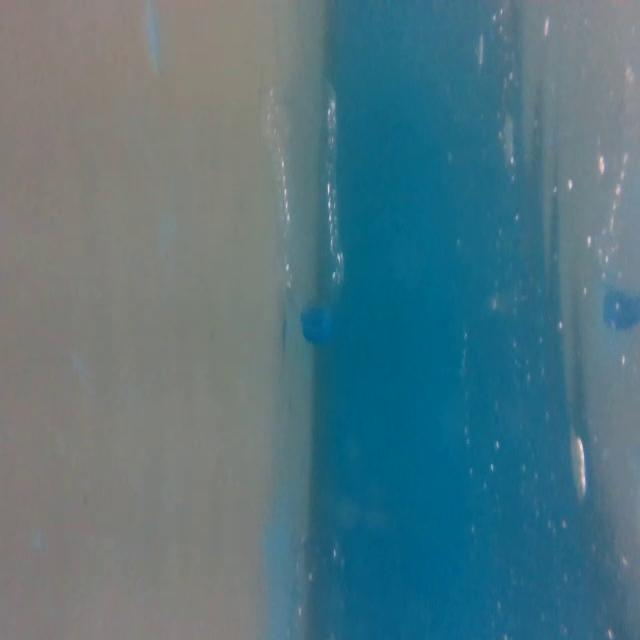plastic bottle: (258, 63, 355, 350)
